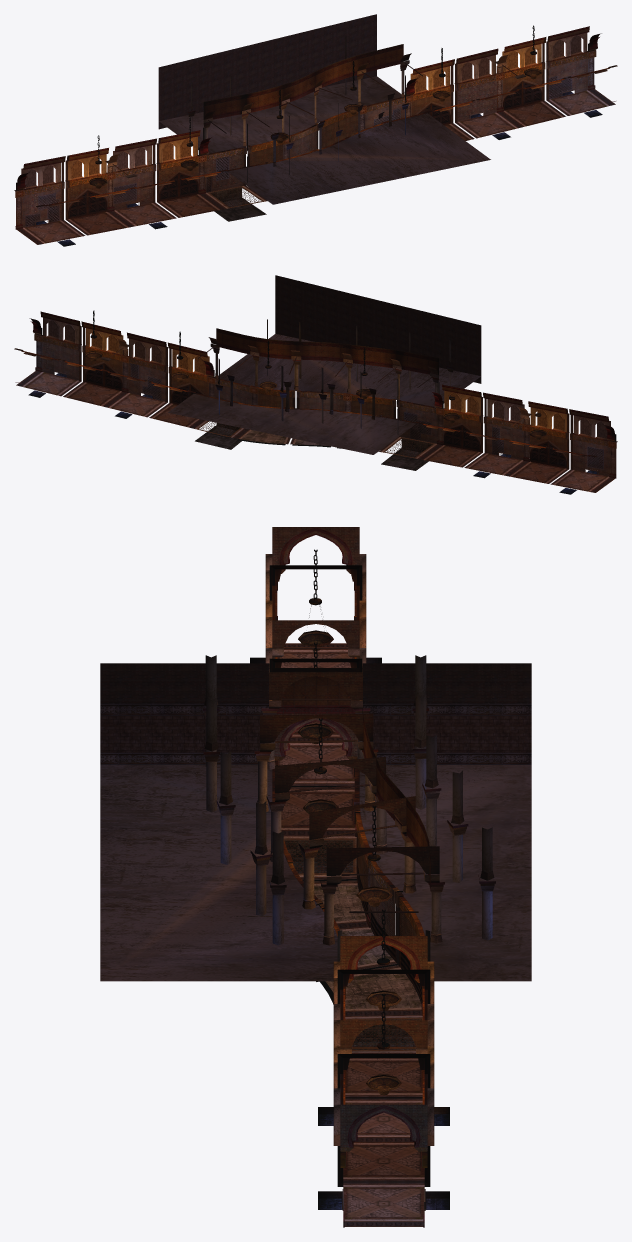
3 renders of one model, top to bottom at view 1: azimuth 30°, elevation 25°; view 2: azimuth 150°, elevation 25°; view 3: azimuth 270°, elevation 25°, orthographic. The views are drawn at different scales.
Visible parts, largest first — view 1: stg030_o08_Mesh_16, stg030_o08_Mesh_2, stg030_o08_Mesh_45, stg030_o08_Mesh_19, stg030_o08_Mesh_11, stg030_o08_Mesh_27, stg030_o08_Mesh_42, stg030_o08_Mesh_14, stg030_o08_Mesh_25, stg030_o08_Mesh_34, stg030_o08_Mesh_35, stg030_o08_Mesh_37 (+6 smaller); view 2: stg030_o08_Mesh_2, stg030_o08_Mesh_16, stg030_o08_Mesh_45, stg030_o08_Mesh_19, stg030_o08_Mesh_11, stg030_o08_Mesh_27, stg030_o08_Mesh_42, stg030_o08_Mesh_39, stg030_o08_Mesh_14, stg030_o08_Mesh_34, stg030_o08_Mesh_25, stg030_o08_Mesh_37 (+5 smaller); view 3: stg030_o08_Mesh_16, stg030_o08_Mesh_2, stg030_o08_Mesh_45, stg030_o08_Mesh_8, stg030_o08_Mesh_42, stg030_o08_Mesh_12, stg030_o08_Mesh_39, stg030_o08_Mesh_37, stg030_o08_Mesh_19, stg030_o08_Mesh_27, stg030_o08_Mesh_14, stg030_o08_Mesh_0 (+6 smaller).
Part boxes in pixels (left/top/right/bottom): stg030_o08_Mesh_16: left=21, top=33, right=587, bottom=204; stg030_o08_Mesh_2: left=22, top=14, right=587, bottom=224; stg030_o08_Mesh_45: left=24, top=90, right=607, bottom=243; stg030_o08_Mesh_19: left=23, top=35, right=596, bottom=237; stg030_o08_Mesh_11: left=14, top=48, right=617, bottom=207; stg030_o08_Mesh_27: left=15, top=26, right=615, bottom=241; stg030_o08_Mesh_42: left=23, top=34, right=609, bottom=243; stg030_o08_Mesh_14: left=16, top=36, right=615, bottom=244; stg030_o08_Mesh_25: left=36, top=63, right=570, bottom=224; stg030_o08_Mesh_34: left=203, top=48, right=403, bottom=116; stg030_o08_Mesh_35: left=25, top=75, right=572, bottom=227; stg030_o08_Mesh_37: left=61, top=36, right=570, bottom=235; stg030_o08_Mesh_2: left=42, top=275, right=610, bottom=473; stg030_o08_Mesh_16: left=43, top=317, right=610, bottom=454; stg030_o08_Mesh_45: left=24, top=372, right=607, bottom=491; stg030_o08_Mesh_19: left=34, top=320, right=609, bottom=485; stg030_o08_Mesh_11: left=14, top=332, right=617, bottom=457; stg030_o08_Mesh_27: left=15, top=311, right=616, bottom=489; stg030_o08_Mesh_42: left=22, top=319, right=609, bottom=491; stg030_o08_Mesh_39: left=28, top=373, right=598, bottom=494; stg030_o08_Mesh_14: left=16, top=320, right=615, bottom=492; stg030_o08_Mesh_34: left=216, top=332, right=438, bottom=372; stg030_o08_Mesh_25: left=60, top=346, right=595, bottom=473; stg030_o08_Mesh_37: left=58, top=321, right=573, bottom=484; stg030_o08_Mesh_16: left=100, top=655, right=531, bottom=981; stg030_o08_Mesh_2: left=100, top=527, right=531, bottom=1198; stg030_o08_Mesh_45: left=277, top=652, right=424, bottom=1219; stg030_o08_Mesh_8: left=100, top=715, right=531, bottom=752; stg030_o08_Mesh_42: left=260, top=554, right=439, bottom=1221; stg030_o08_Mesh_12: left=100, top=657, right=531, bottom=918; stg030_o08_Mesh_39: left=285, top=841, right=449, bottom=1209; stg030_o08_Mesh_37: left=269, top=565, right=430, bottom=1186; stg030_o08_Mesh_19: left=204, top=531, right=494, bottom=1210; stg030_o08_Mesh_27: left=203, top=527, right=495, bottom=1227; stg030_o08_Mesh_14: left=275, top=616, right=424, bottom=1226; stg030_o08_Mesh_0: left=298, top=598, right=401, bottom=1095.
Bounding box in the file's own units: 95.96 × 18.09 × 31.7.
Materials: 20 (20 with a texture image).
